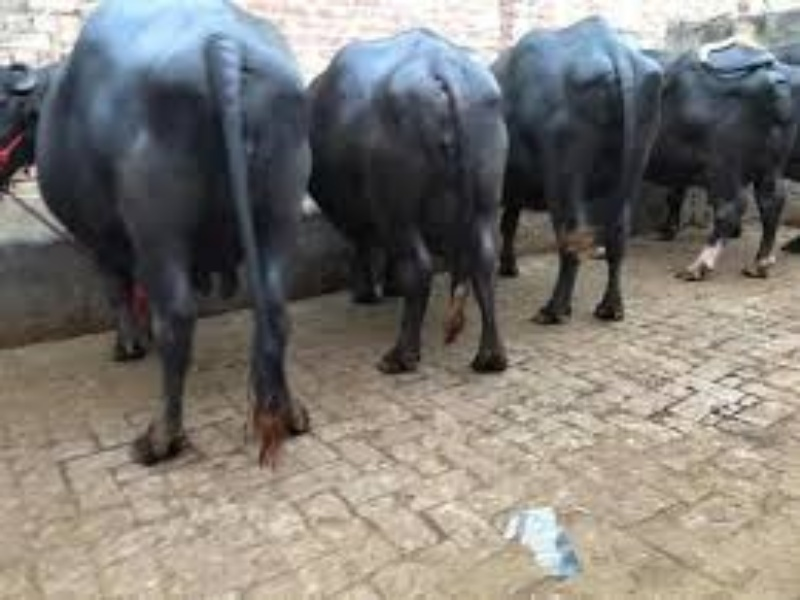buffalo: (16, 10, 644, 464)
